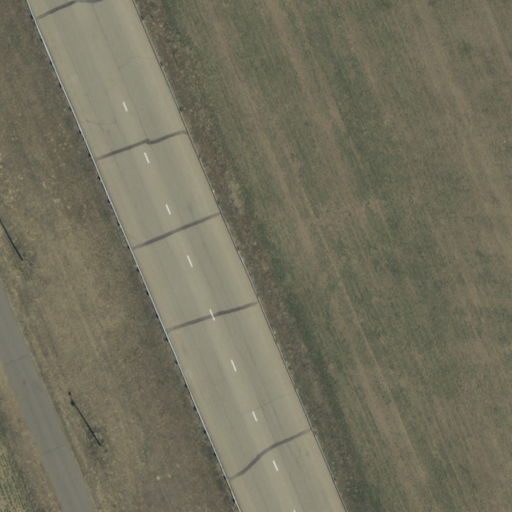DT: (91, 433, 115, 460), (14, 246, 38, 272)
